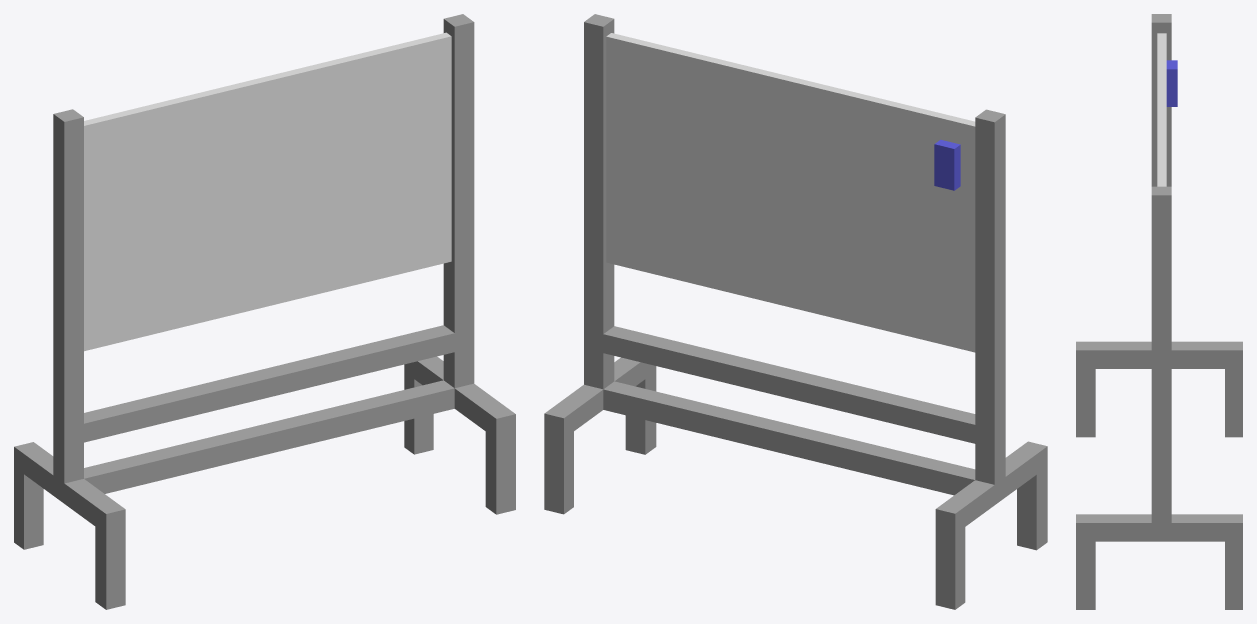
Rendered from LabWhiteBoard.fbx.
3 views of the same model, side by side, from view 1: azimuth 30°, elevation 25°; view 2: azimuth 150°, elevation 25°; view 3: azimuth 270°, elevation 25° (orthographic). The views are drawn at different scales.
Parts seen in each view (by area): view 1: pCube179, pCube178; view 2: pCube179, pCube178, pCube180; view 3: pCube178, pCube179, pCube180.
Boxes of the visible parts, x1,y1,x2,y2 form: pCube179: (84, 32, 451, 351); pCube178: (14, 14, 515, 609); pCube179: (606, 33, 975, 352); pCube178: (544, 14, 1047, 609); pCube180: (934, 139, 960, 190); pCube178: (1076, 14, 1242, 609); pCube179: (1157, 33, 1166, 186); pCube180: (1166, 60, 1177, 106).
Bounding box in the file's own units: 6.27 × 6.69 × 2.44.
